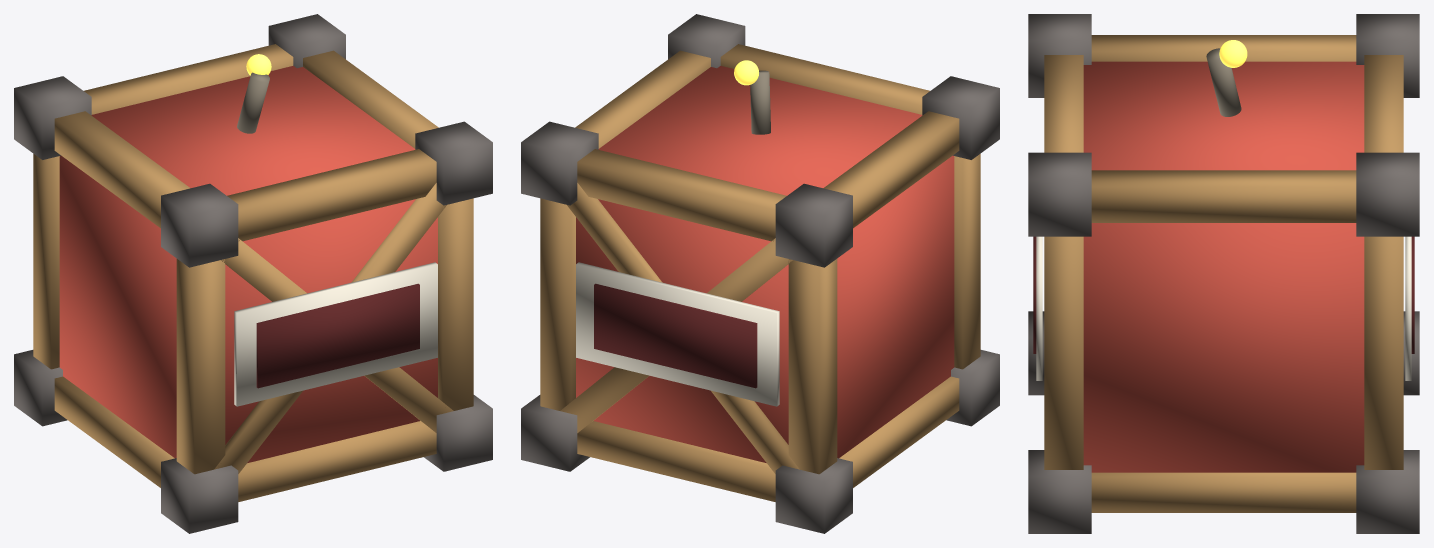
File: tnt.glb
3 views of the same model, side by side, from view 1: azimuth 30°, elevation 25°; view 2: azimuth 150°, elevation 25°; view 3: azimuth 270°, elevation 25° (orthographic). The views are drawn at different scales.
Visible parts, largest first — view 1: TNT_Crate; view 2: TNT_Crate; view 3: TNT_Crate.
Boxes of the visible parts, x1,y1,x2,y2 form: TNT_Crate: [14, 14, 492, 533]; TNT_Crate: [521, 14, 999, 533]; TNT_Crate: [1028, 14, 1419, 533].
Size of the model in its own units: 1.25 by 1.47 by 1.25.
